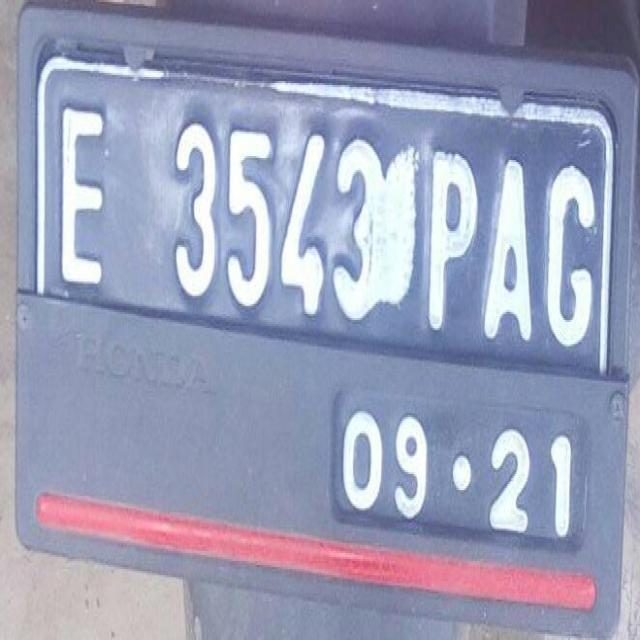plate: (34, 36, 615, 553)
